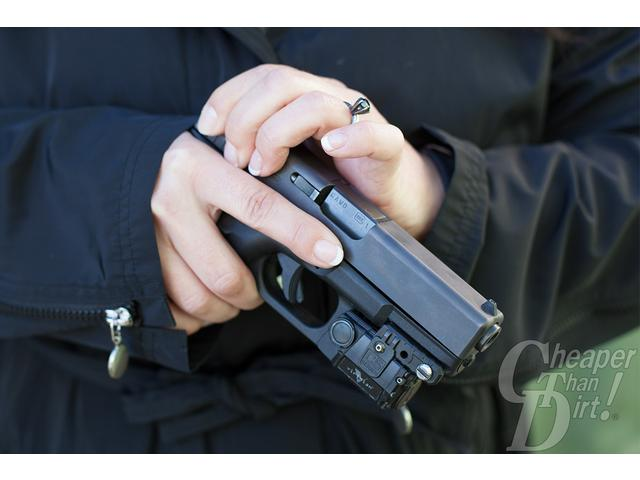pistol: (186, 129, 504, 413)
